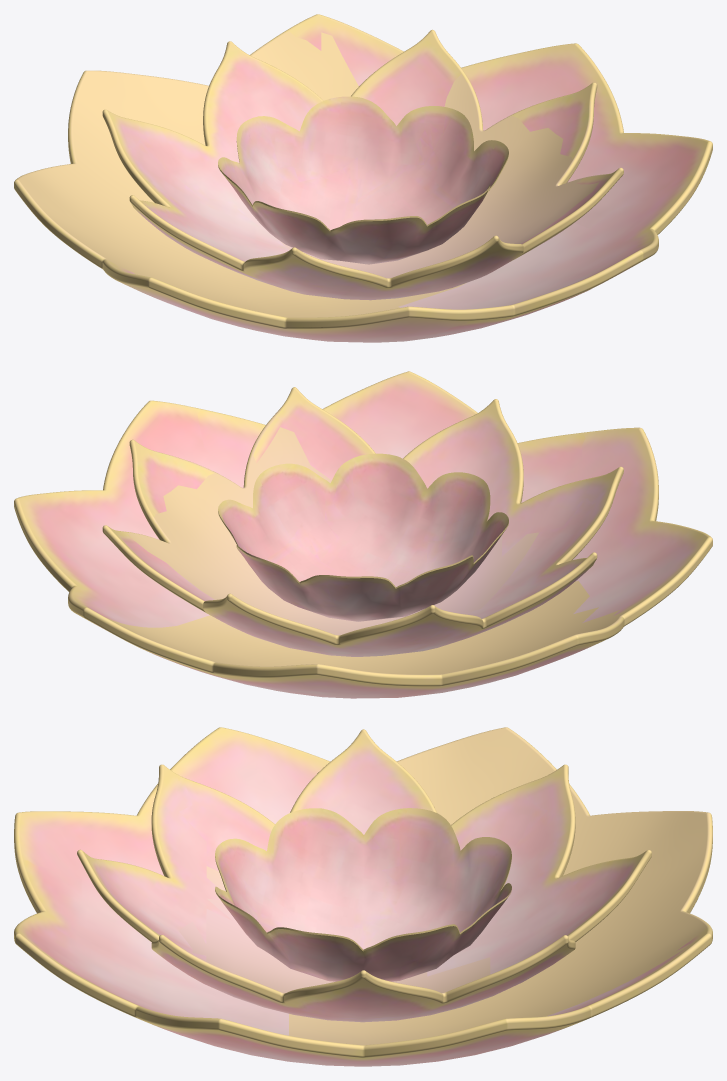
The model's file is lotusplate.gltf.
3 renders of one model, top to bottom at view 1: azimuth 30°, elevation 25°; view 2: azimuth 150°, elevation 25°; view 3: azimuth 270°, elevation 25°, orthographic. The views are drawn at different scales.
Parts seen in each view (by area): view 1: plate, plate_2, plate_3; view 2: plate, plate_2, plate_3; view 3: plate, plate_2, plate_3.
Boxes of the visible parts, bbox=[...] form: plate: bbox=[14, 14, 712, 342]; plate_2: bbox=[102, 29, 623, 300]; plate_3: bbox=[218, 96, 508, 264]; plate: bbox=[14, 371, 712, 698]; plate_2: bbox=[102, 387, 623, 656]; plate_3: bbox=[218, 453, 508, 621]; plate: bbox=[14, 727, 712, 1066]; plate_2: bbox=[77, 729, 651, 1022]; plate_3: bbox=[215, 808, 511, 981].
Size of the model in its own units: 0.0478 by 0.0129 by 0.0478.
Materials: 3 (3 with a texture image).
